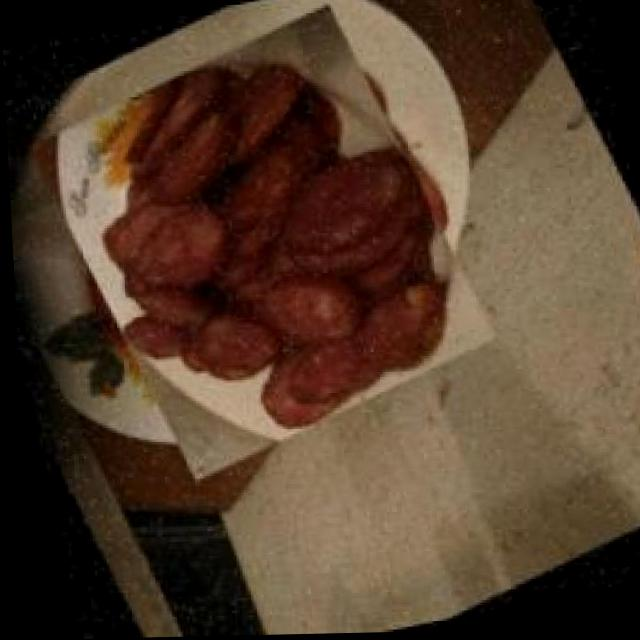chinese_sausage: (5, 0, 520, 495)
